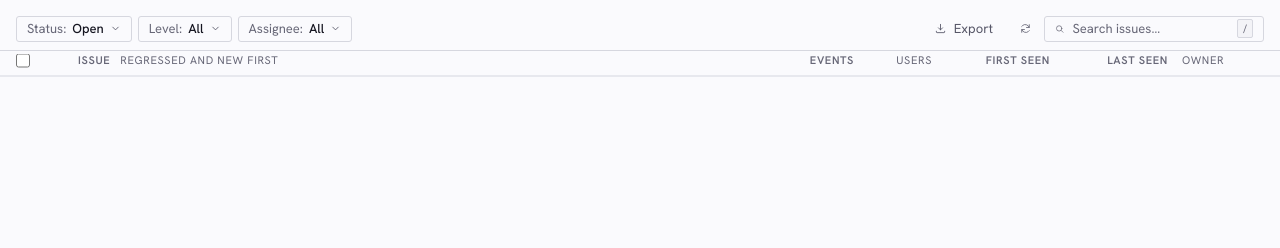
Test: IssueListView › filterbar interactions › shows clear filters button and clears filters when clicked
Note: Type something that doesn't match, making filtered empty while isFiltered is true
Type "nonexistentquery12345" into the field named "Search issues" at {"x": 1151, "y": 28}, box [1072,16,1229,40]
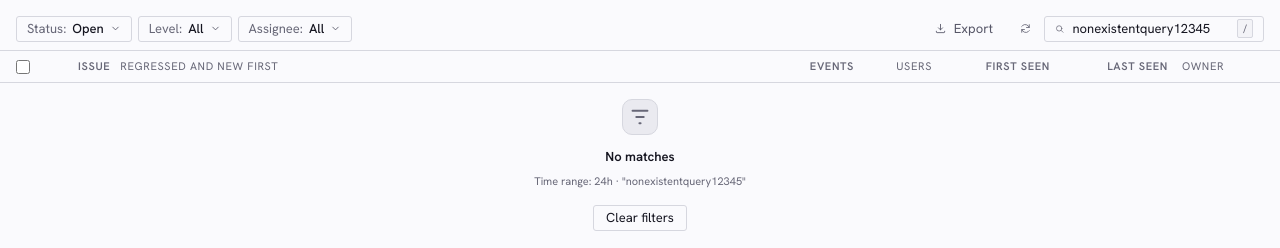
Result: the element with class "empty-filter" is shown at [534,99,746,231]
Click the button "Clear filters" at {"x": 640, "y": 218}, box [593,205,687,231]
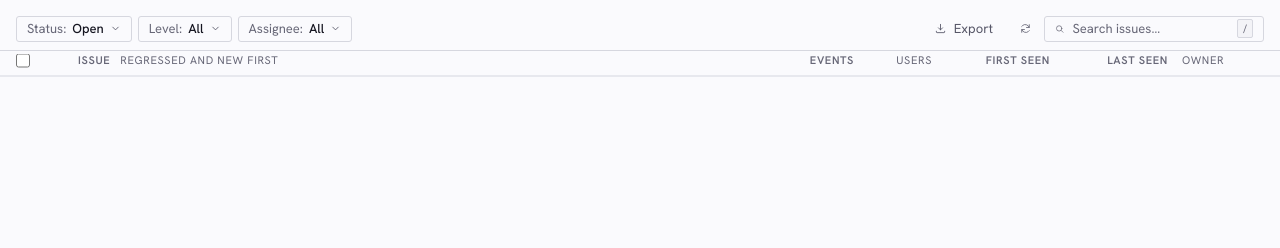
Result: the field named "Search issues" is empty at [1072,16,1229,40]
